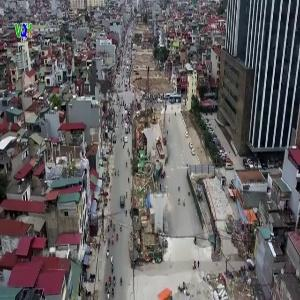drone: (72, 49, 146, 123)
